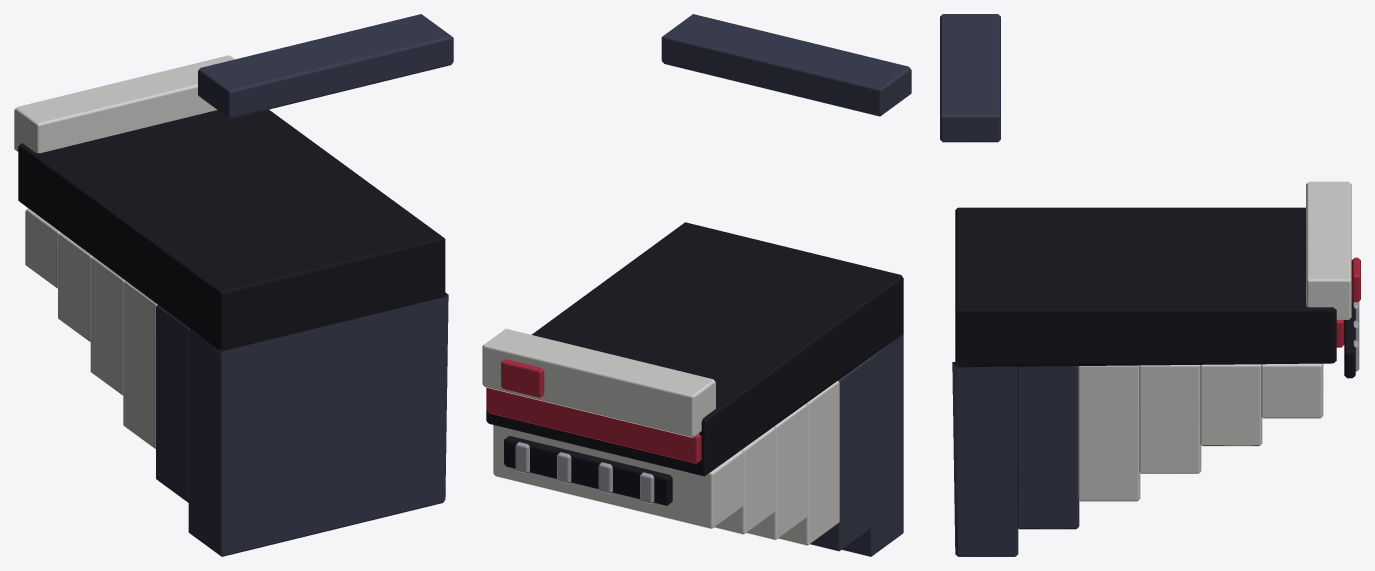
The model's file is canopy.straight.w1.deck.cut.glb.
The picture shows the model from 3 angles, left to right: view 1: azimuth 30°, elevation 25°; view 2: azimuth 150°, elevation 25°; view 3: azimuth 270°, elevation 25°; orthographic projection. The views are drawn at different scales.
Parts seen in each view (by area): view 1: canopy.straight.w1.deck.cut; view 2: canopy.straight.w1.deck.cut; view 3: canopy.straight.w1.deck.cut.
Boxes of the visible parts, bbox=[...] form: canopy.straight.w1.deck.cut: bbox=[14, 14, 453, 556]; canopy.straight.w1.deck.cut: bbox=[482, 14, 911, 556]; canopy.straight.w1.deck.cut: bbox=[940, 14, 1360, 556].
Size of the model in its own units: 1 by 2 by 1.73.
